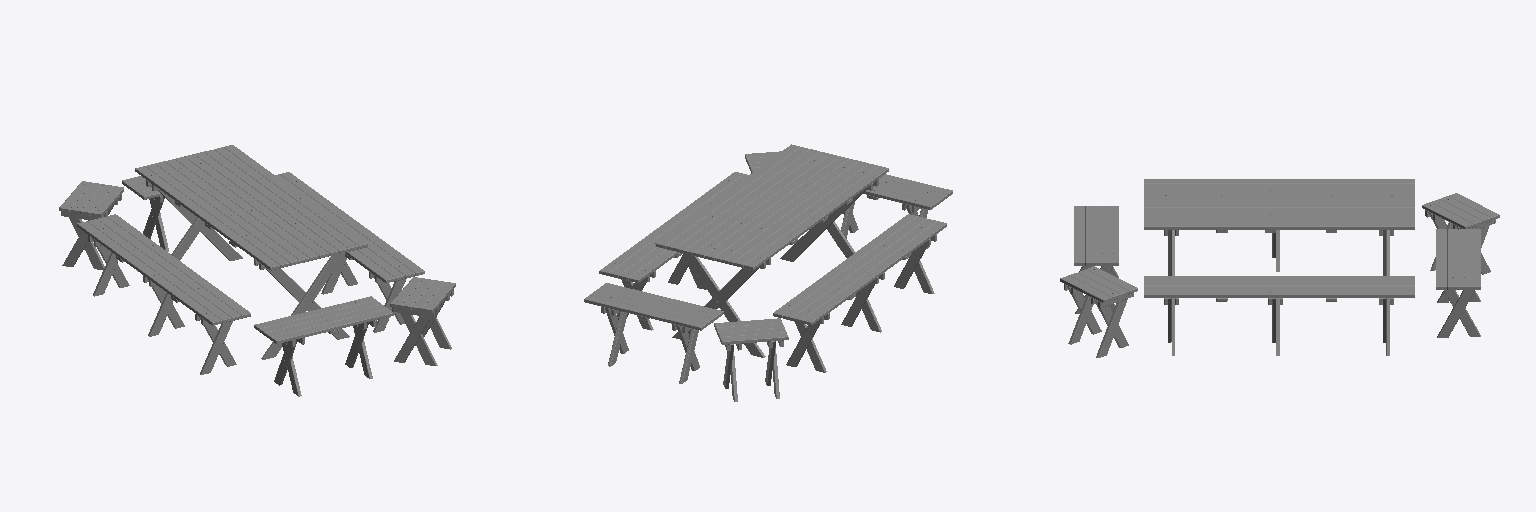
Rendered from mesafuera.obj.
3 views of the same model, side by side, from view 1: azimuth 30°, elevation 25°; view 2: azimuth 150°, elevation 25°; view 3: azimuth 270°, elevation 25° (orthographic).
Visible parts, largest first — view 1: Arch_Object_19, Arch_Object_22, Arch_Object_31, Arch_Object_20, Arch_Object_24, Arch_Object_17, Arch_Object_21, Arch_Object_23, Arch_Object_26, Arch_Object_29, Arch_Object_35, Arch_Object_27 (+20 smaller); view 2: Arch_Object_19, Arch_Object_22, Arch_Object_32, Arch_Object_25, Arch_Object_28, Arch_Object_20, Arch_Object_21, Arch_Object_24, Arch_Object_26, Arch_Object_35, Arch_Object_27, Arch_Object_17 (+17 smaller); view 3: Arch_Object_35, Arch_Object_28, Arch_Object_37, Arch_Object_41, Arch_Object_20, Arch_Object_22, Arch_Object_23, Arch_Object_24, Arch_Object_25, Arch_Object_26, Arch_Object_29, Arch_Object_39 (+13 smaller).
Part boxes in pixels (left/top/right/bottom): Arch_Object_19: left=77, top=221, right=221, bottom=325; Arch_Object_22: left=135, top=166, right=279, bottom=270; Arch_Object_31: left=261, top=253, right=349, bottom=359; Arch_Object_20: left=155, top=161, right=299, bottom=265; Arch_Object_24: left=184, top=154, right=328, bottom=258; Arch_Object_17: left=97, top=217, right=241, bottom=320; Arch_Object_21: left=145, top=164, right=289, bottom=267; Arch_Object_23: left=165, top=159, right=309, bottom=262; Arch_Object_26: left=204, top=150, right=348, bottom=253; Arch_Object_29: left=214, top=147, right=358, bottom=251; Arch_Object_35: left=280, top=172, right=424, bottom=275; Arch_Object_27: left=194, top=152, right=338, bottom=255; Arch_Object_19: left=802, top=221, right=946, bottom=325; Arch_Object_22: left=744, top=166, right=888, bottom=269; Arch_Object_32: left=672, top=253, right=765, bottom=357; Arch_Object_25: left=705, top=156, right=848, bottom=260; Arch_Object_28: left=656, top=144, right=799, bottom=248; Arch_Object_20: left=724, top=161, right=868, bottom=265; Arch_Object_21: left=734, top=164, right=878, bottom=267; Arch_Object_24: left=695, top=154, right=839, bottom=258; Arch_Object_26: left=675, top=149, right=819, bottom=253; Arch_Object_35: left=599, top=172, right=743, bottom=275; Arch_Object_27: left=685, top=152, right=829, bottom=255; Arch_Object_17: left=783, top=216, right=926, bottom=320; Arch_Object_35: left=1144, top=290, right=1414, bottom=297; Arch_Object_28: left=1144, top=222, right=1414, bottom=229; Arch_Object_37: left=1144, top=281, right=1414, bottom=285; Arch_Object_41: left=1144, top=276, right=1414, bottom=280; Arch_Object_20: left=1144, top=188, right=1414, bottom=192; Arch_Object_22: left=1144, top=179, right=1414, bottom=183; Arch_Object_23: left=1144, top=193, right=1414, bottom=197; Arch_Object_24: left=1144, top=203, right=1414, bottom=207; Arch_Object_25: left=1144, top=198, right=1414, bottom=202; Arch_Object_26: left=1144, top=212, right=1414, bottom=216; Arch_Object_29: left=1144, top=217, right=1414, bottom=221; Arch_Object_39: left=1144, top=286, right=1414, bottom=289.
Size of the model in its own units: 16.64 by 7.31 by 28.42.